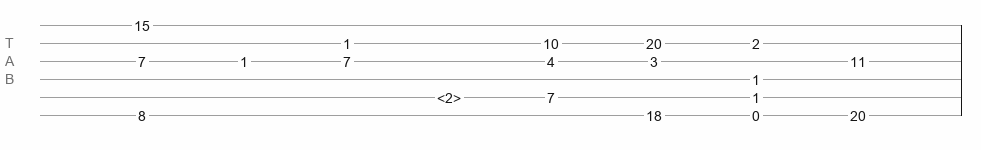0: (752, 108, 760, 118)
1: (240, 54, 248, 64), (343, 36, 351, 46), (752, 72, 760, 82), (752, 90, 760, 100)
10: (543, 36, 559, 46)
11: (850, 54, 866, 64)
15: (134, 18, 150, 28)
18: (646, 108, 662, 118)
2: (752, 36, 760, 46)
20: (646, 36, 662, 46), (850, 108, 866, 118)
3: (650, 54, 658, 64)
4: (547, 54, 555, 64)
7: (138, 54, 146, 64), (343, 54, 351, 64), (547, 90, 555, 100)
8: (138, 108, 146, 118)
harmonic: (437, 90, 461, 100)
